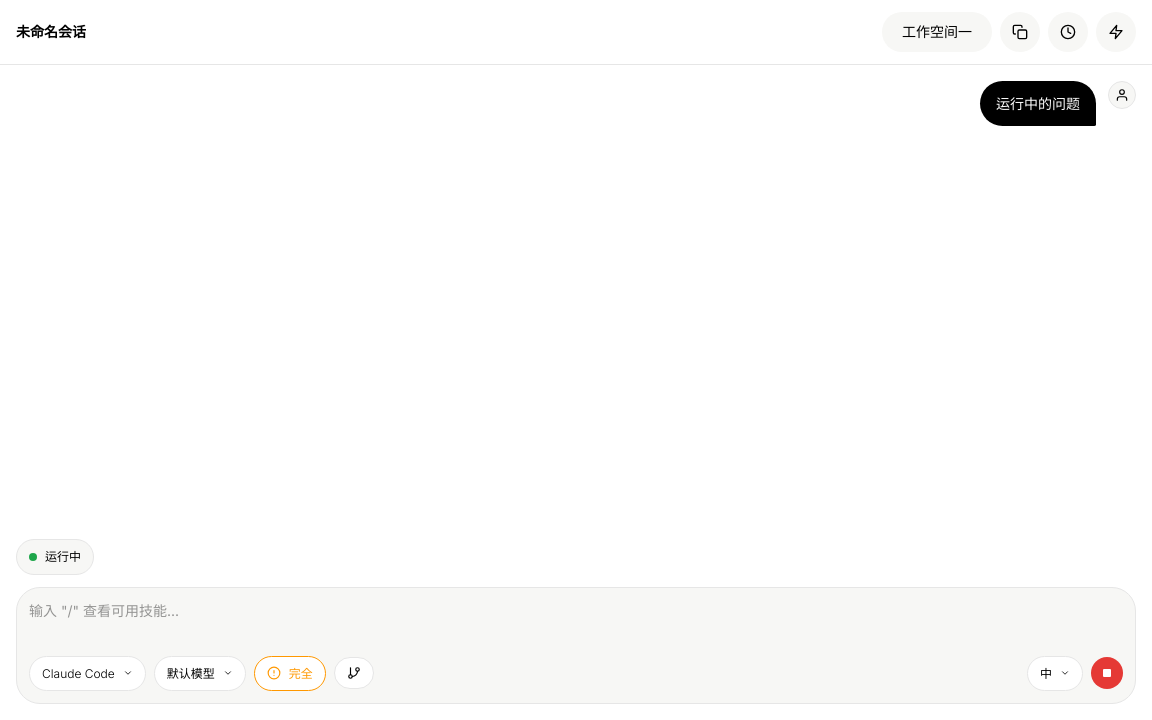
App › keeps the UI usable when stopping a running task fails
Check: the text "运行中" is shown, box x1=45 y1=548 x2=81 y2=566
Click the button named "停止" at (1107, 673), box x1=1091 y1=657 x2=1123 y2=689
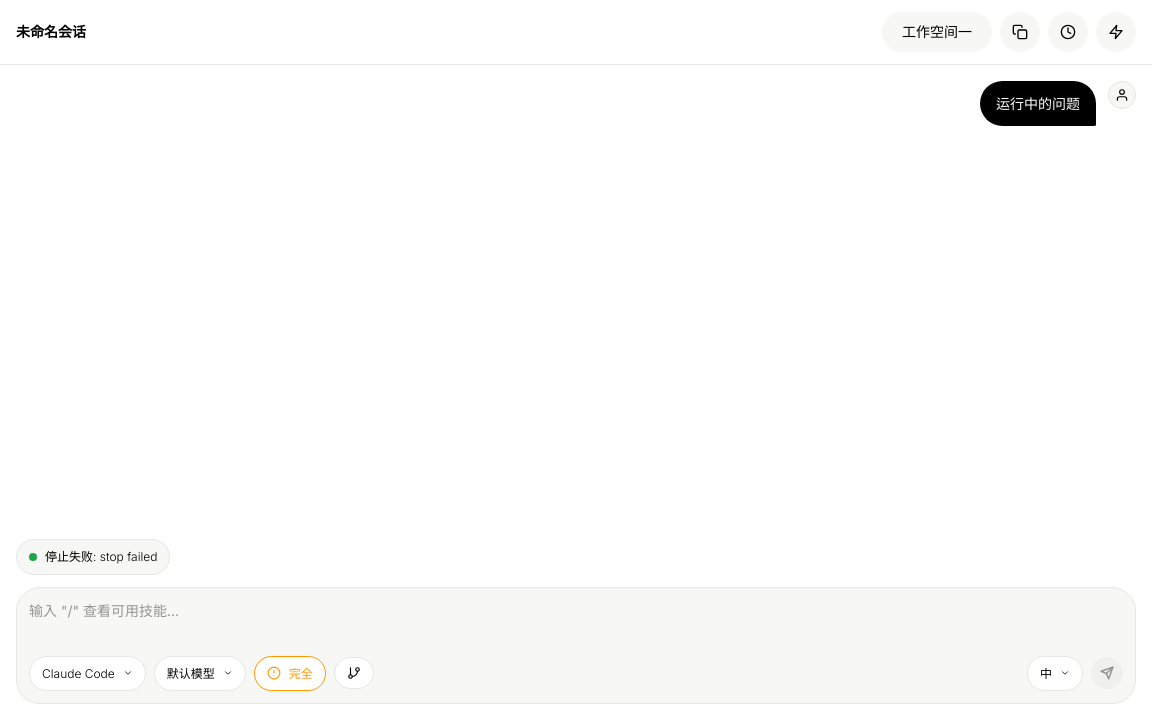
Check: the text "停止失败: stop failed" is shown, box x1=45 y1=548 x2=158 y2=566
Check: the button named "发送" is shown, box x1=1091 y1=657 x2=1123 y2=689
